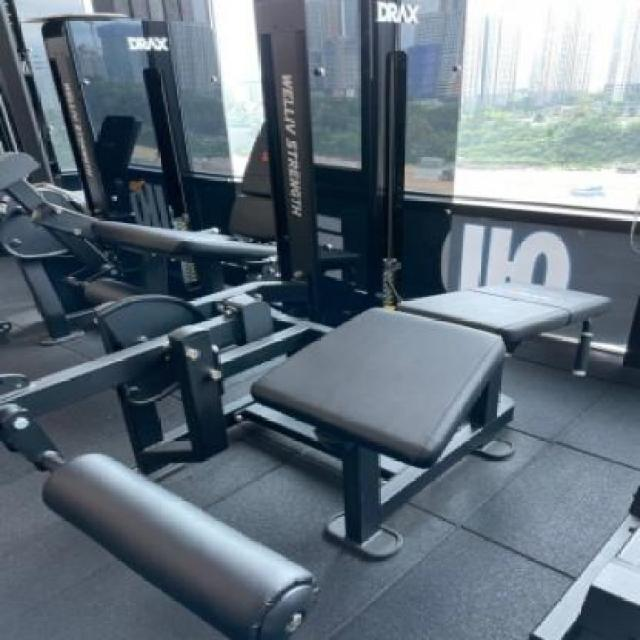reg curl machine: (0, 0, 622, 640)
